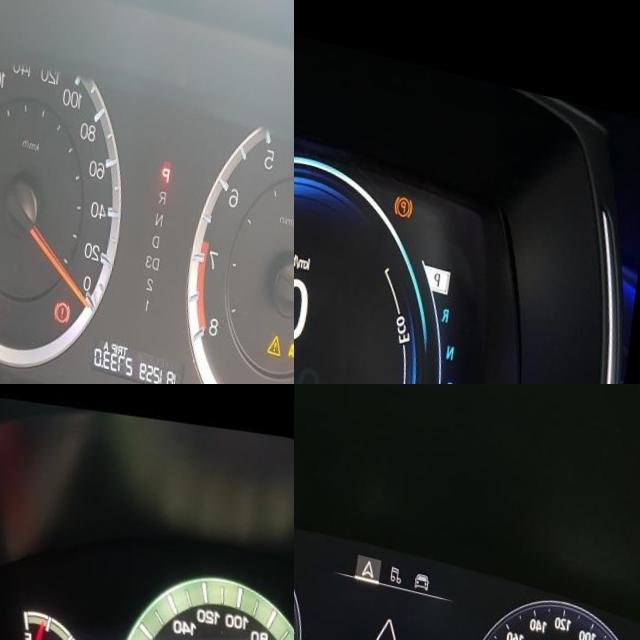Central Warning lamp: (279, 308, 294, 333)
Low beam: (567, 624, 587, 640)
SideLamp: (587, 629, 608, 640)
